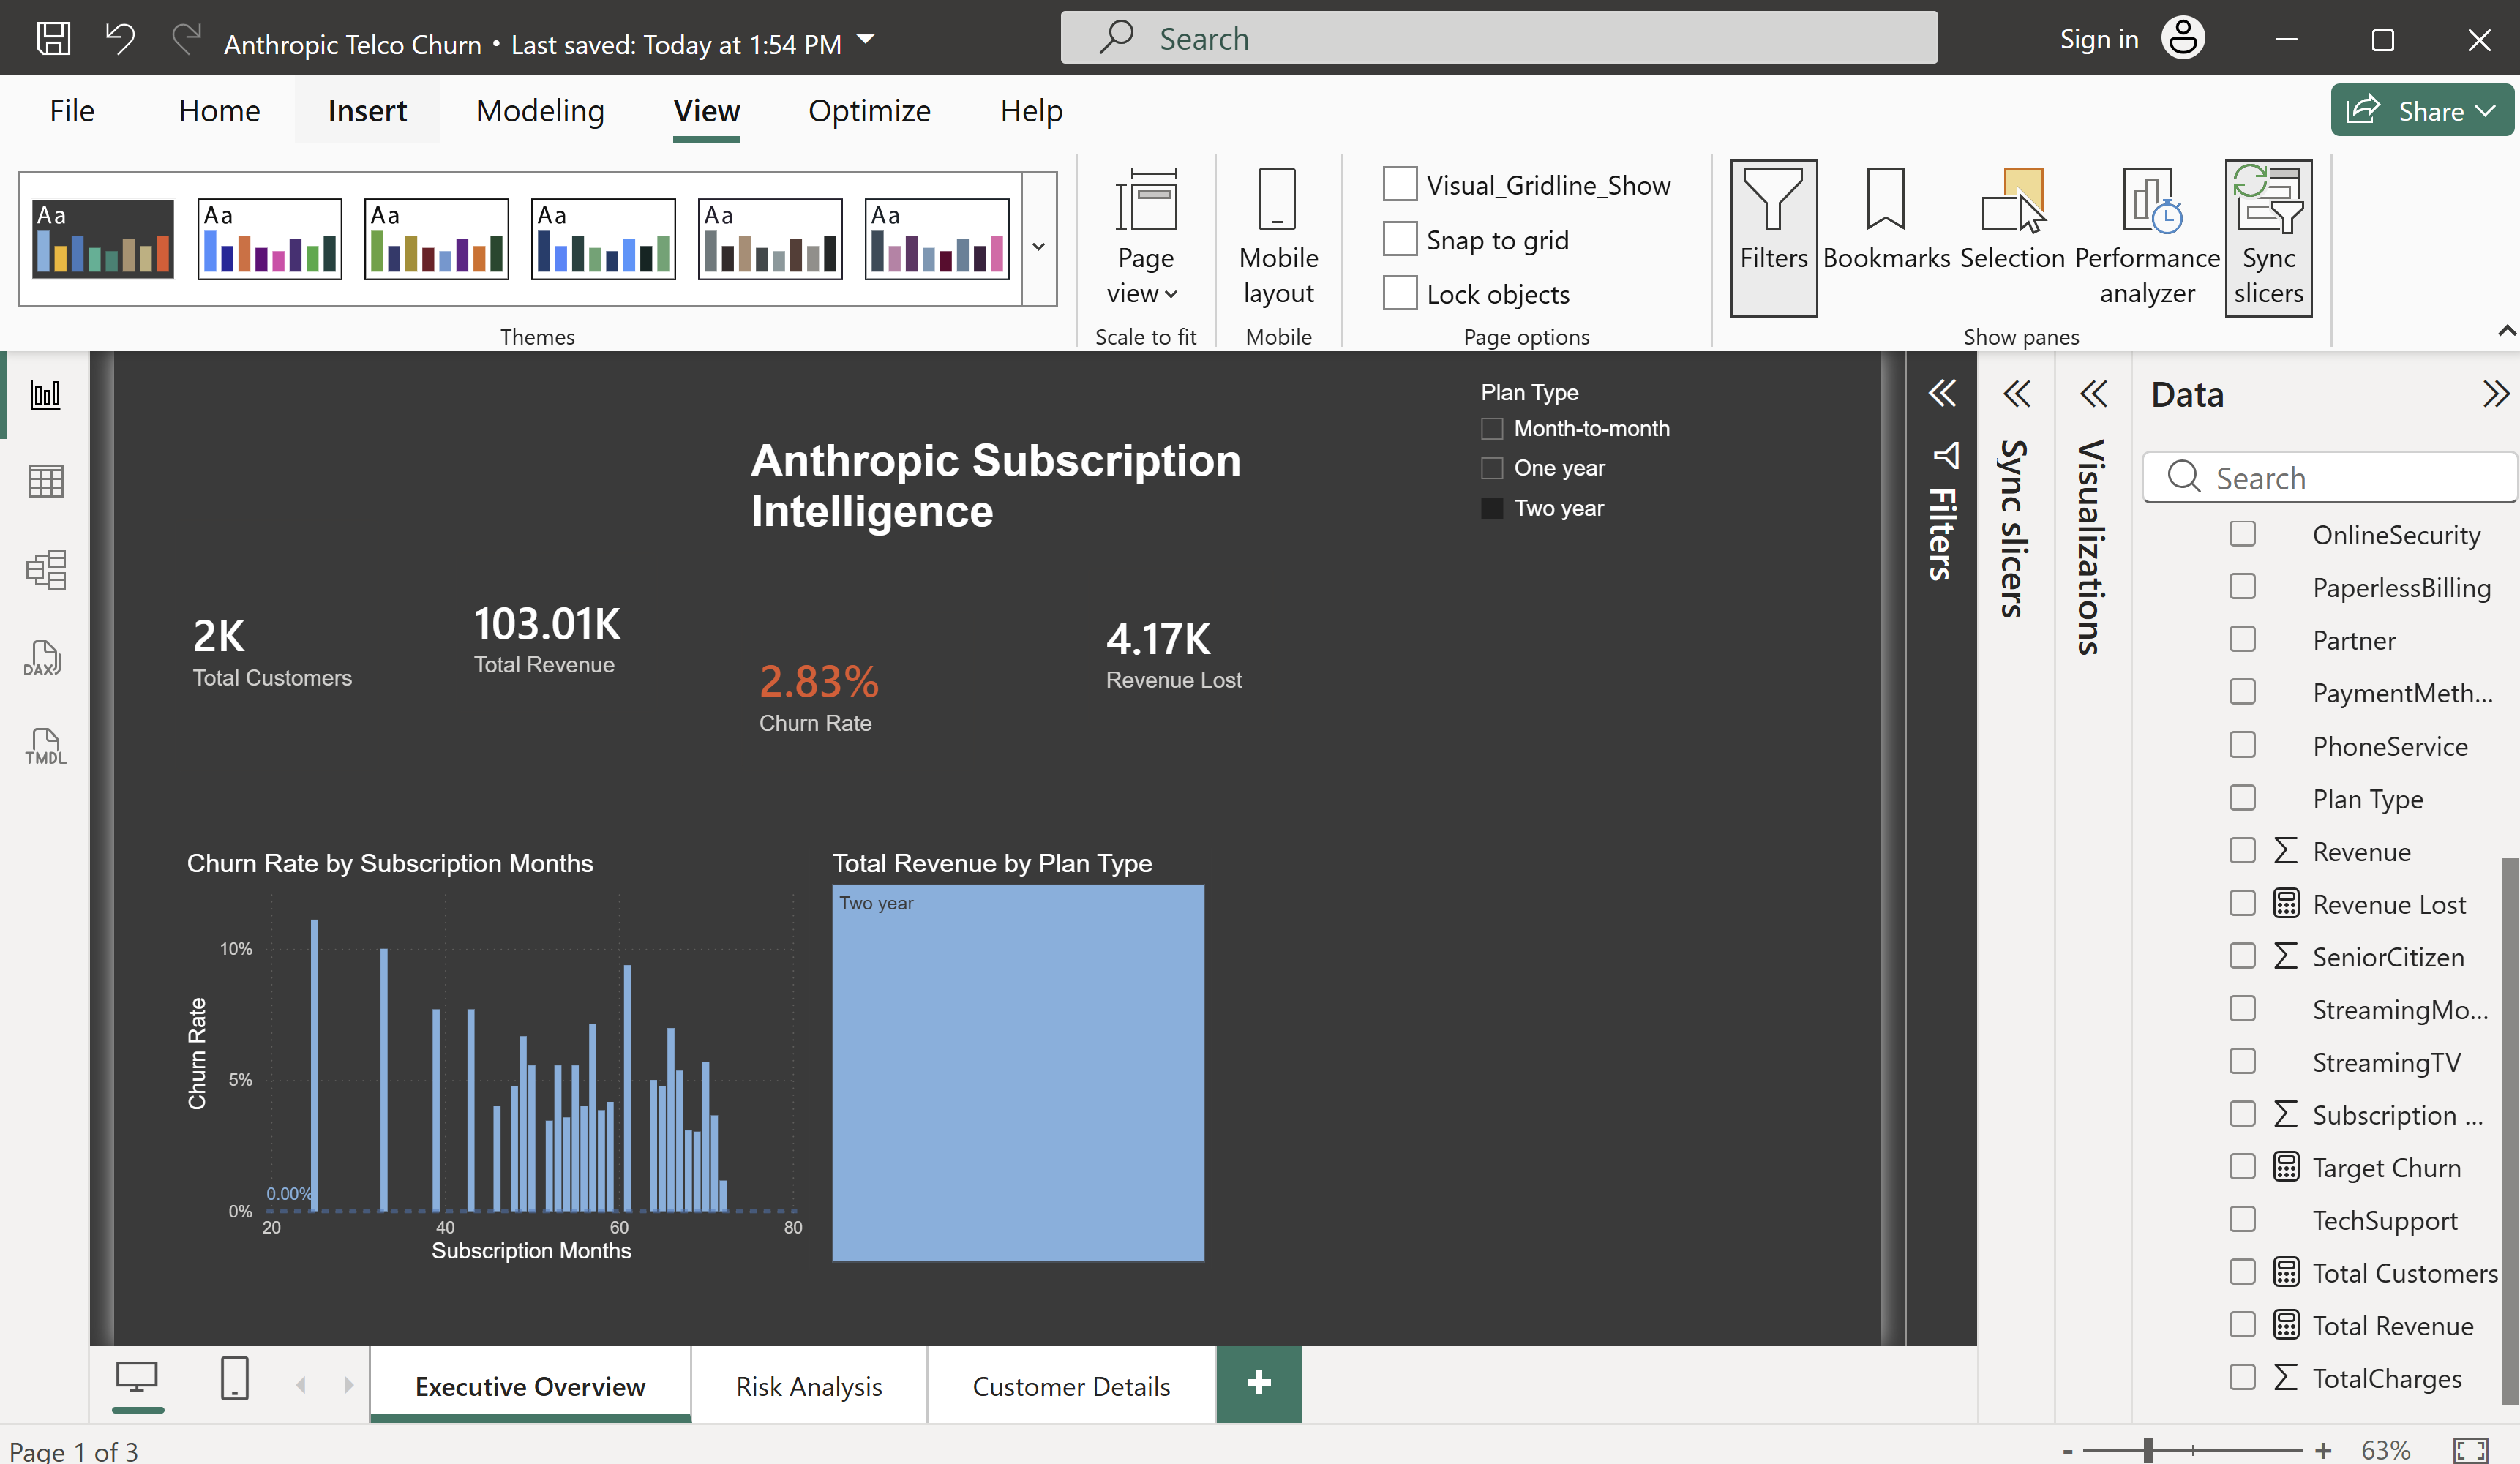

What the dashboard file says about the page in this screenshot:
{"tool":"powerbi","page":{"name":"Executive Overview","canvas":[1280,720],"ordinal":0},"visuals":[{"type":"textbox","box":[455.9,55.4,545.3,73.3],"z":0},{"type":"cardVisual","fields":{"Data":["WA_Fn-UseC_-Telco-Customer-Churn.Total Customers"]},"box":[26.8,105.5,182.3,216.3],"z":1},{"type":"cardVisual","fields":{"Data":["WA_Fn-UseC_-Telco-Customer-Churn.Total Revenue"]},"box":[230.6,128.7,180.6,150.2],"z":2},{"type":"cardVisual","fields":{"Data":["WA_Fn-UseC_-Telco-Customer-Churn.Churn Rate"]},"box":[455.9,139.4,203.8,150.2],"z":3},{"type":"cardVisual","fields":{"Data":["WA_Fn-UseC_-Telco-Customer-Churn.Revenue Lost"]},"box":[688.3,139.4,169.8,150.2],"z":4},{"type":"clusteredColumnChart","fields":{"Category":["WA_Fn-UseC_-Telco-Customer-Churn.Subscription Months"],"Y":["WA_Fn-UseC_-Telco-Customer-Churn.Churn Rate"]},"box":[48.3,359.3,455.9,305.7],"z":6},{"type":"treemap","fields":{"Group":["WA_Fn-UseC_-Telco-Customer-Churn.Plan Type"],"Values":["WA_Fn-UseC_-Telco-Customer-Churn.Total Revenue"]},"box":[640,341.5,463,305.7],"z":7},{"type":"slicer","fields":{"Values":["WA_Fn-UseC_-Telco-Customer-Churn.Plan Type"]},"box":[786.6,15.6,448.7,704.4],"z":8}]}

Visuals, with their boxes on the page's 1280x720 design canvas (x1, y1, x2, y2). These are canvas units, not pixel positions in the 2520x1464 screenshot, which may show the page scaled, cropped or inside an application window:
textbox: rect(456, 55, 1001, 129)
cardVisual - WA_Fn-UseC_-Telco-Customer-Churn.Total Customers: rect(27, 106, 209, 322)
cardVisual - WA_Fn-UseC_-Telco-Customer-Churn.Total Revenue: rect(231, 129, 411, 279)
cardVisual - WA_Fn-UseC_-Telco-Customer-Churn.Churn Rate: rect(456, 139, 660, 290)
cardVisual - WA_Fn-UseC_-Telco-Customer-Churn.Revenue Lost: rect(688, 139, 858, 290)
clusteredColumnChart - WA_Fn-UseC_-Telco-Customer-Churn.Subscription Months x WA_Fn-UseC_-Telco-Customer-Churn.Churn Rate: rect(48, 359, 504, 665)
treemap - WA_Fn-UseC_-Telco-Customer-Churn.Plan Type x WA_Fn-UseC_-Telco-Customer-Churn.Total Revenue: rect(640, 342, 1103, 647)
slicer - WA_Fn-UseC_-Telco-Customer-Churn.Plan Type: rect(787, 16, 1235, 720)
